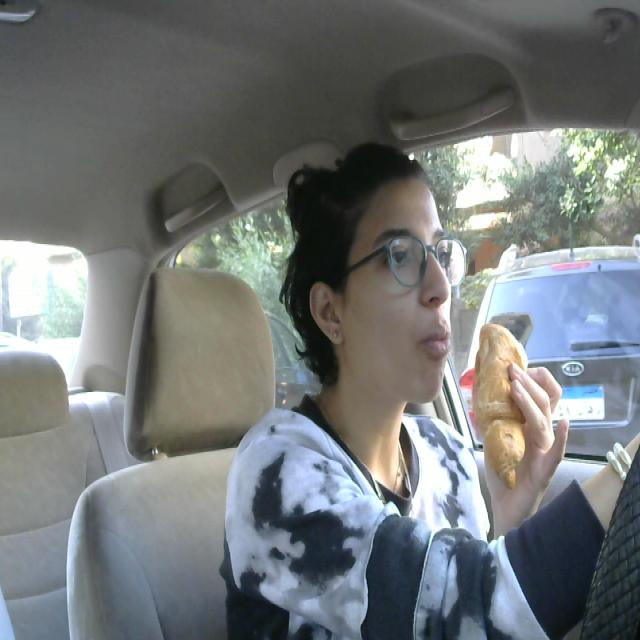eating: (463, 308, 538, 501)
